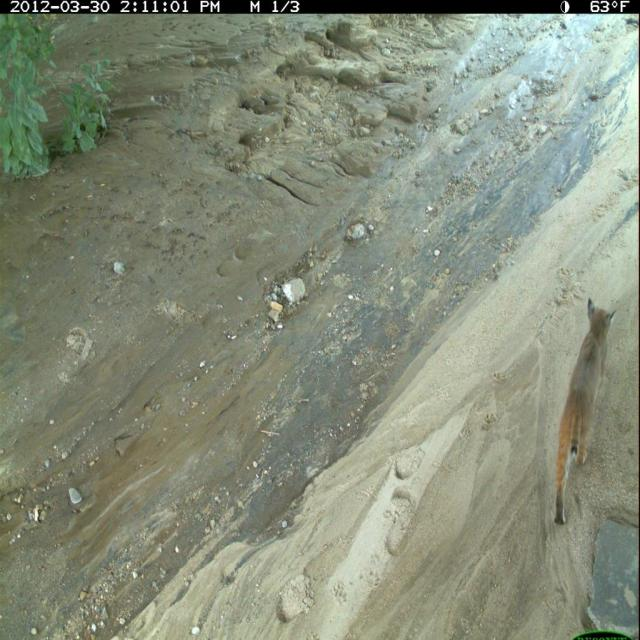bobcat: (552, 293, 617, 531)
